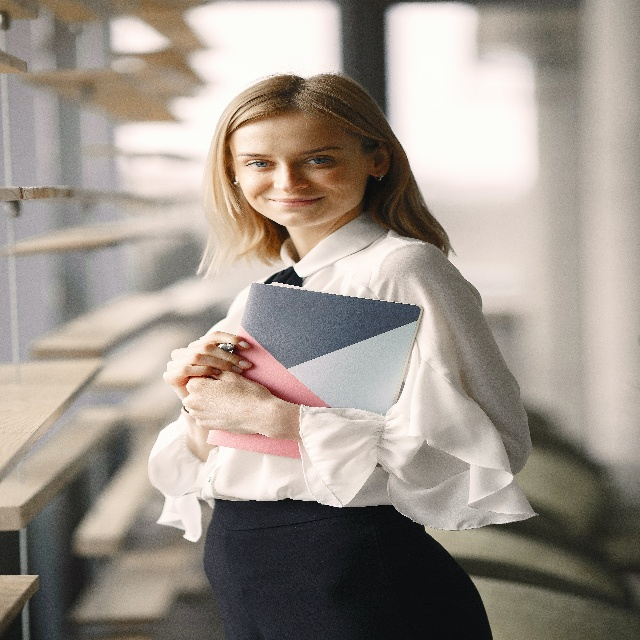Sin_guantes: (163, 329, 252, 404), (182, 367, 272, 437)
